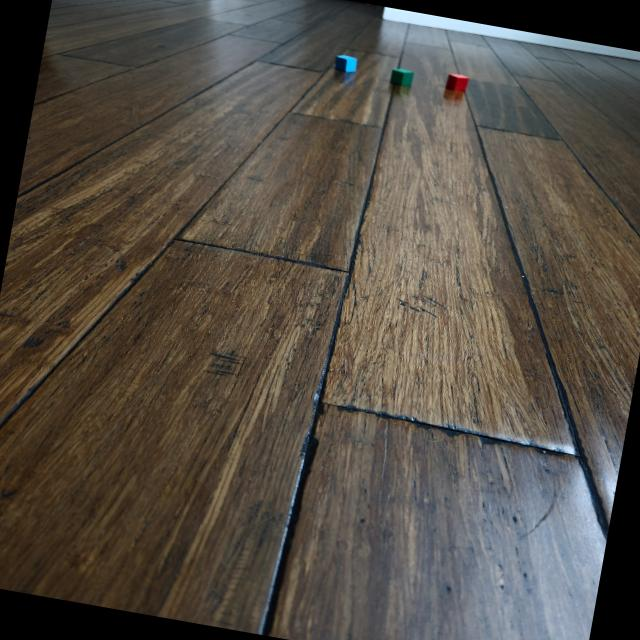bluecube: (333, 52, 358, 74)
green cube: (389, 65, 414, 87)
red cube: (446, 72, 470, 92)
